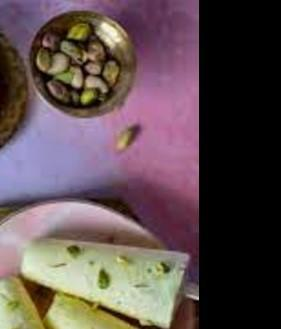Kulfi: (20, 237, 190, 328), (43, 293, 137, 329), (0, 273, 45, 329)
